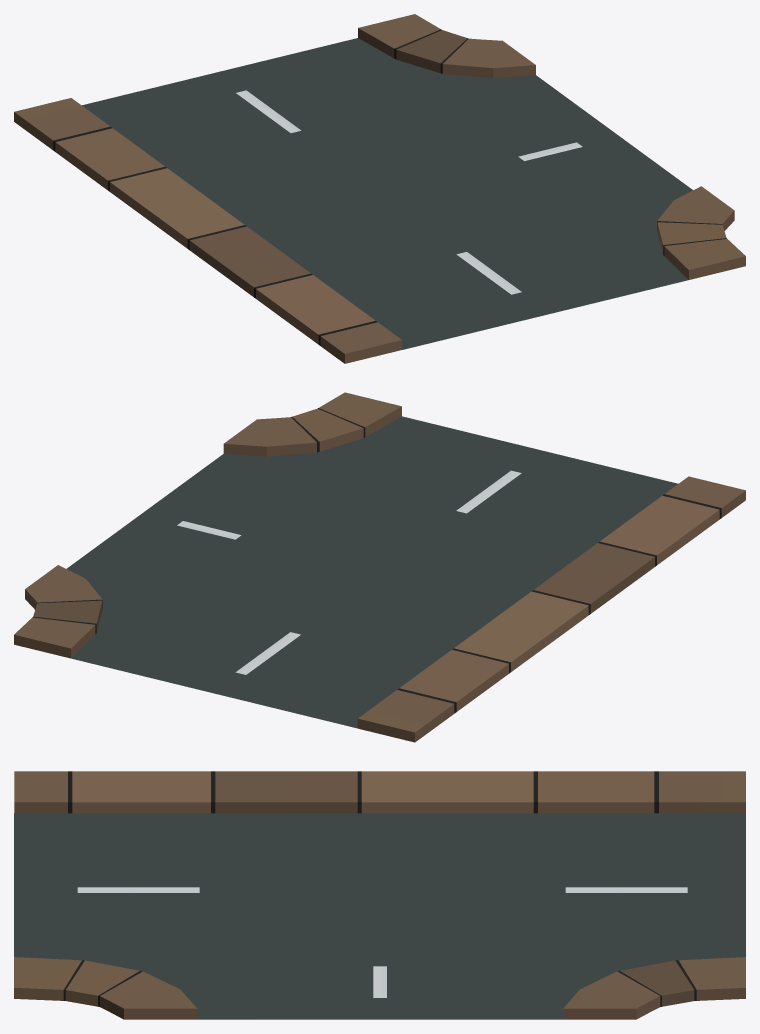
The model's file is Road_1_112.fbx.
3 views of the same model, one above another, from view 1: azimuth 30°, elevation 25°; view 2: azimuth 150°, elevation 25°; view 3: azimuth 270°, elevation 25° (orthographic). The views are drawn at different scales.
Parts seen in each view (by area): view 1: Road_1_112; view 2: Road_1_112; view 3: Road_1_112.
Boxes of the visible parts, x1=… form: Road_1_112: x1=14, y1=14, x2=745, y2=363; Road_1_112: x1=14, y1=392, x2=745, y2=742; Road_1_112: x1=14, y1=771, x2=745, y2=1019.
Bounding box in the file's own units: 1380 × 30 × 1801.
